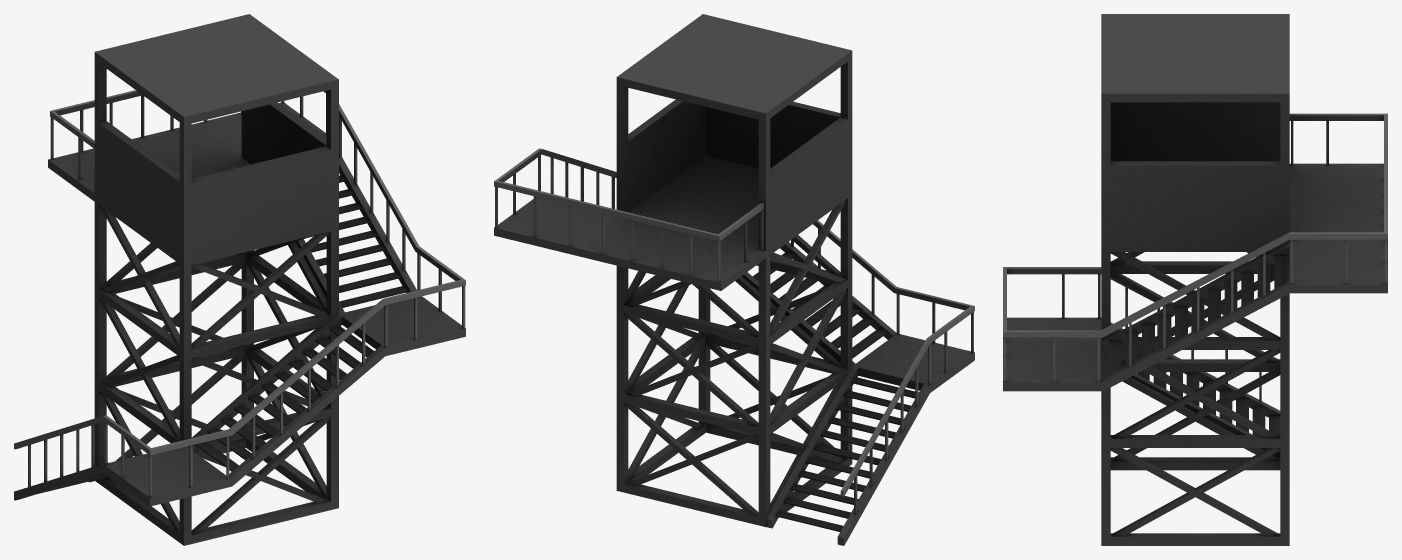
Rendered from Guard_Tower.fbx.
3 renders of one model, left to right at view 1: azimuth 30°, elevation 25°; view 2: azimuth 150°, elevation 25°; view 3: azimuth 270°, elevation 25°, orthographic. The views are drawn at different scales.
Parts seen in each view (by area): view 1: Guard_Tower; view 2: Guard_Tower; view 3: Guard_Tower.
Boxes of the visible parts, x1,y1,x2,y2 form: Guard_Tower: [14, 14, 465, 545]; Guard_Tower: [494, 14, 974, 545]; Guard_Tower: [1003, 14, 1387, 545].
Bounding box in the file's own units: 20.4 × 26.45 × 20.4.
